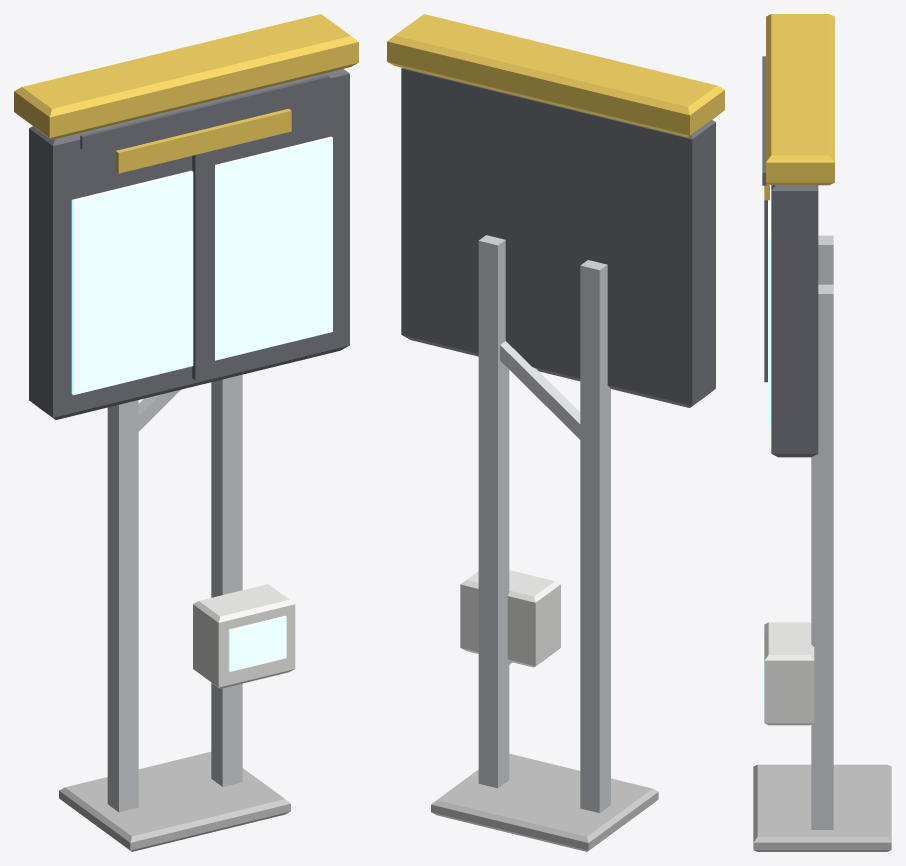
Rendered from stand_guidance.glb.
The picture shows the model from 3 angles, left to right: view 1: azimuth 30°, elevation 25°; view 2: azimuth 150°, elevation 25°; view 3: azimuth 270°, elevation 25°; orthographic projection. The views are drawn at different scales.
Parts seen in each view (by area): view 1: stand-guidance-display; view 2: stand-guidance-display; view 3: stand-guidance-display.
Part boxes in pixels (bbox=[...]): stand-guidance-display: bbox=[14, 14, 358, 851]; stand-guidance-display: bbox=[387, 14, 724, 851]; stand-guidance-display: bbox=[753, 14, 891, 851].
Bounding box in the file's own units: 2.5 × 5.84 × 1.
Materials: 1 (1 with a texture image).
